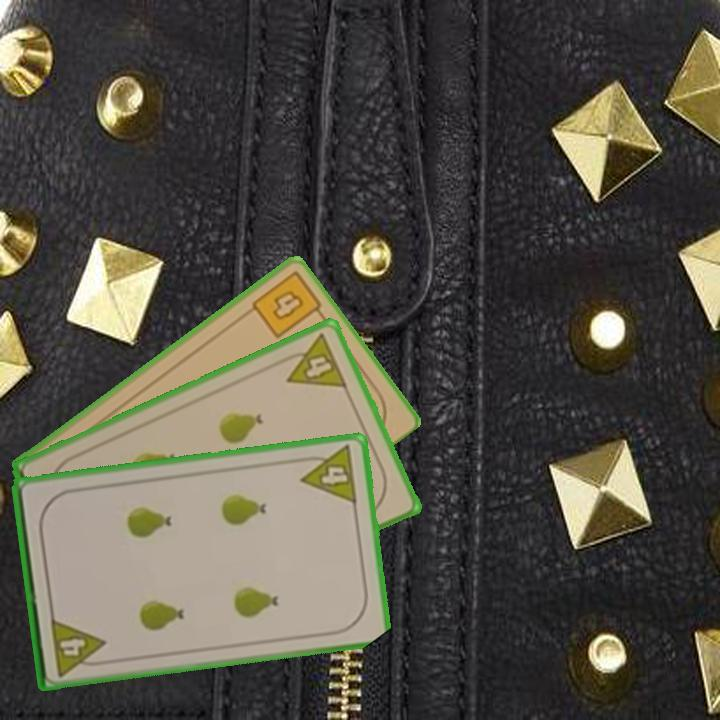4b: (247, 268, 328, 341)
4p: (275, 330, 351, 391), (295, 442, 360, 507), (47, 614, 110, 679)
